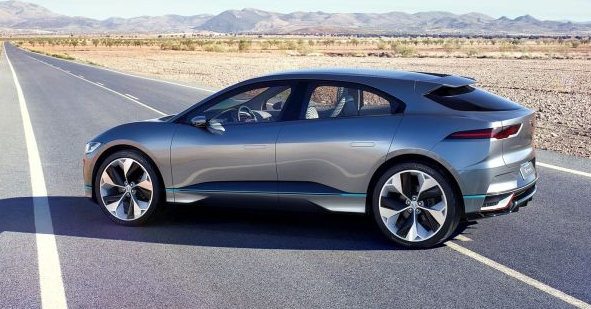car: (67, 47, 553, 252)
